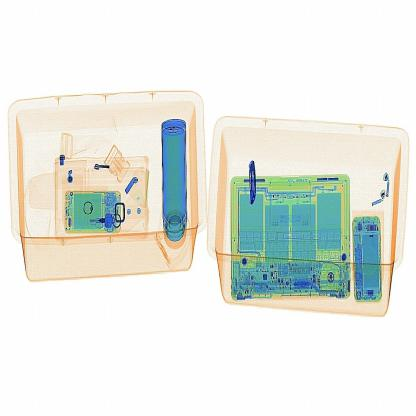knife: (242, 156, 266, 211)
